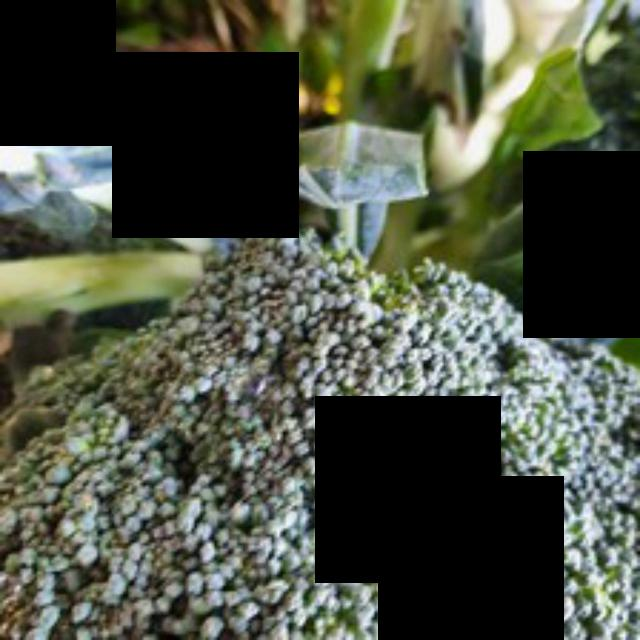broccoli: (0, 251, 637, 637)
